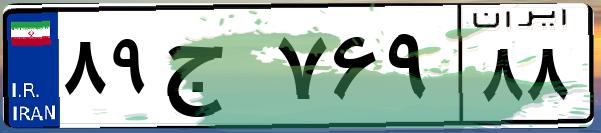6: (330, 28, 385, 110)
7: (270, 28, 330, 110)
8: (57, 26, 110, 100), (475, 38, 525, 113), (525, 38, 570, 115)
9: (385, 28, 445, 110), (110, 28, 158, 98)
ج: (158, 20, 270, 120)
